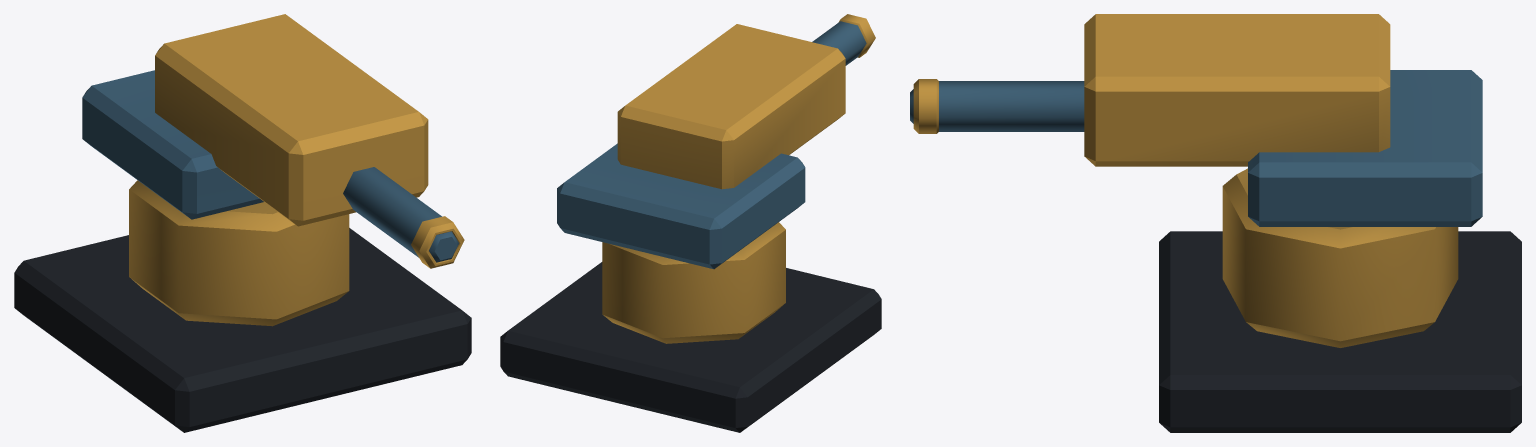
Rendered from R4W_Basic_LOD1.glb.
The picture shows the model from 3 angles, left to right: view 1: azimuth 30°, elevation 25°; view 2: azimuth 150°, elevation 25°; view 3: azimuth 270°, elevation 25°; orthographic projection. The views are drawn at different scales.
Parts seen in each view (by area): view 1: R4W_Basic_LOD1; view 2: R4W_Basic_LOD1; view 3: R4W_Basic_LOD1.
Boxes of the visible parts, box(x1,y1,x2,y2) form: R4W_Basic_LOD1: box(14, 14, 471, 432); R4W_Basic_LOD1: box(500, 14, 881, 432); R4W_Basic_LOD1: box(910, 14, 1521, 432).
Size of the model in its own units: 0.51 by 0.49 by 0.86.
